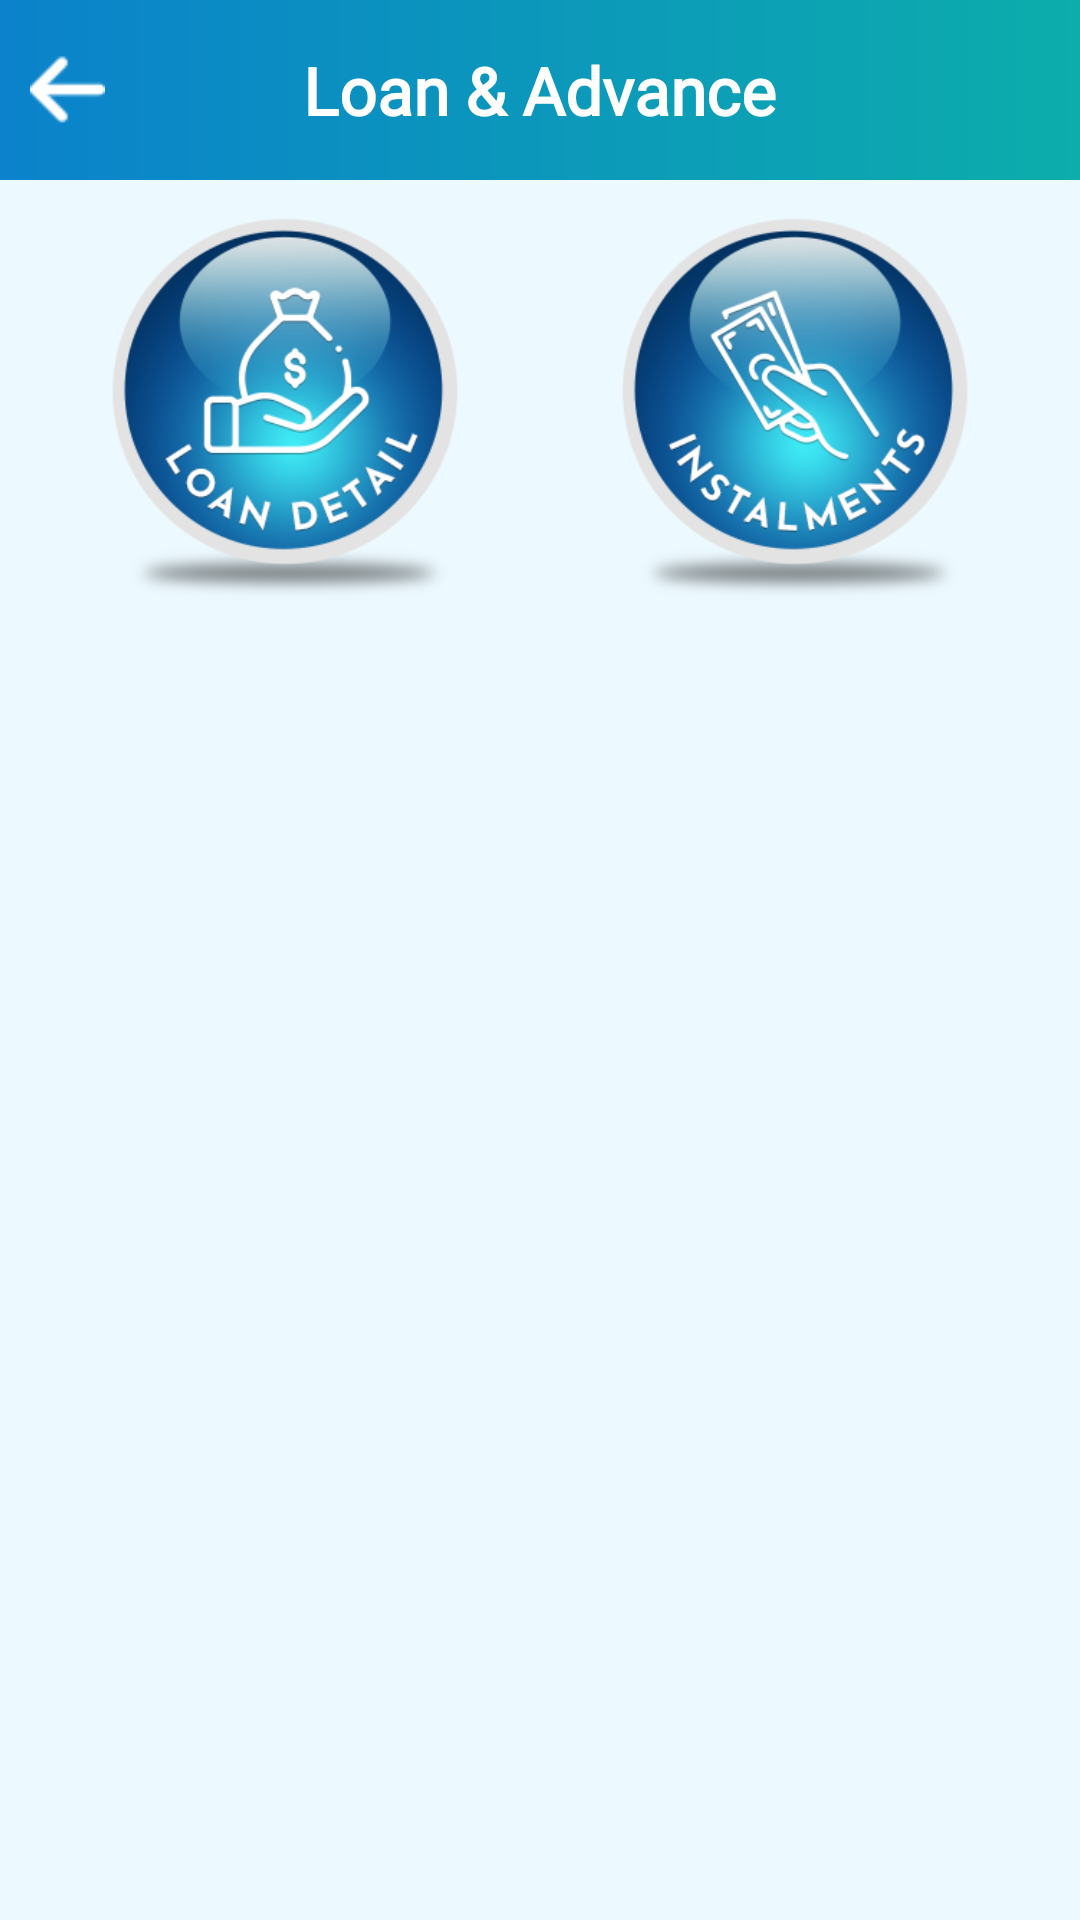

Named icons in this screenshot (1080×1920) and their bounding boxes, {"x1": x1, "y1": y1, "x2": x2, "y2": y2}:
back arrow: {"x1": 30, "y1": 56, "x2": 105, "y2": 123}
